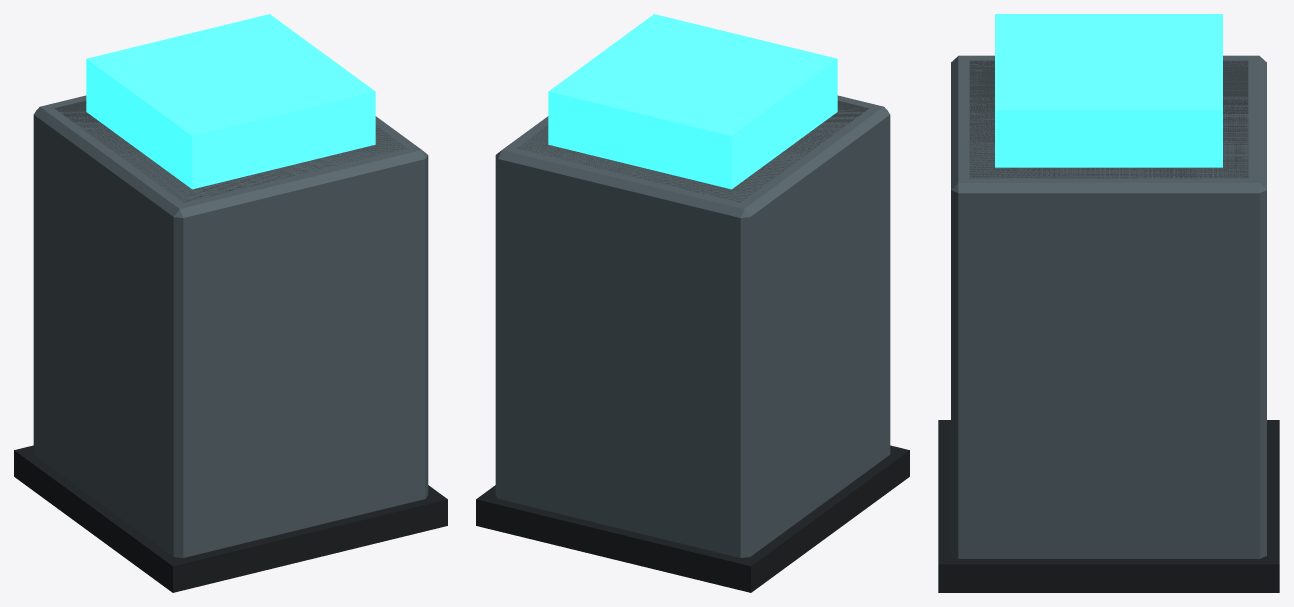
Rendered from lab_button_pedestal_a.glb.
3 renders of one model, left to right at view 1: azimuth 30°, elevation 25°; view 2: azimuth 150°, elevation 25°; view 3: azimuth 270°, elevation 25°, orthographic. The views are drawn at different scales.
Parts seen in each view (by area): view 1: lab_button_pedestal_a, emit_cap; view 2: lab_button_pedestal_a, emit_cap; view 3: lab_button_pedestal_a, emit_cap.
Boxes of the visible parts, <box> form: lab_button_pedestal_a: <box>14,95,447,592</box>; emit_cap: <box>86,14,375,189</box>; lab_button_pedestal_a: <box>476,95,909,592</box>; emit_cap: <box>548,14,837,189</box>; lab_button_pedestal_a: <box>938,55,1279,592</box>; emit_cap: <box>995,14,1222,167</box>.
Bounding box in the file's own units: 0.54 × 0.8 × 0.54.
